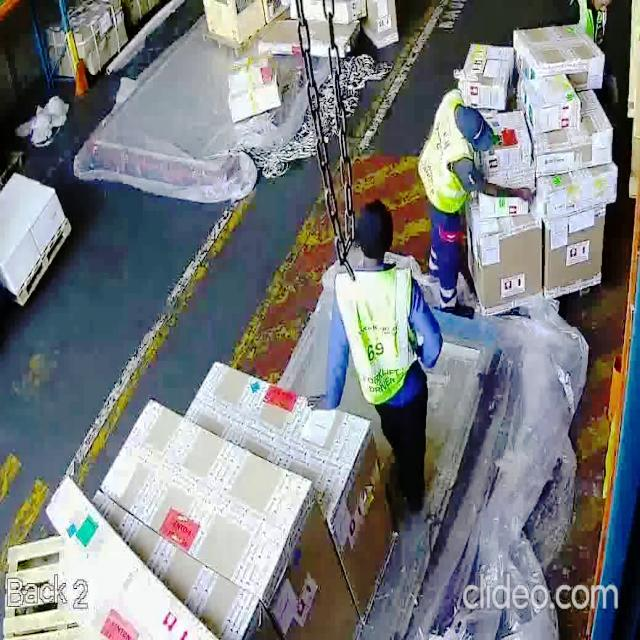Box: (470, 212, 544, 299), (516, 25, 599, 78), (547, 214, 600, 288), (462, 41, 514, 105), (539, 127, 620, 167), (536, 168, 614, 209), (228, 62, 290, 112), (524, 79, 576, 127)
